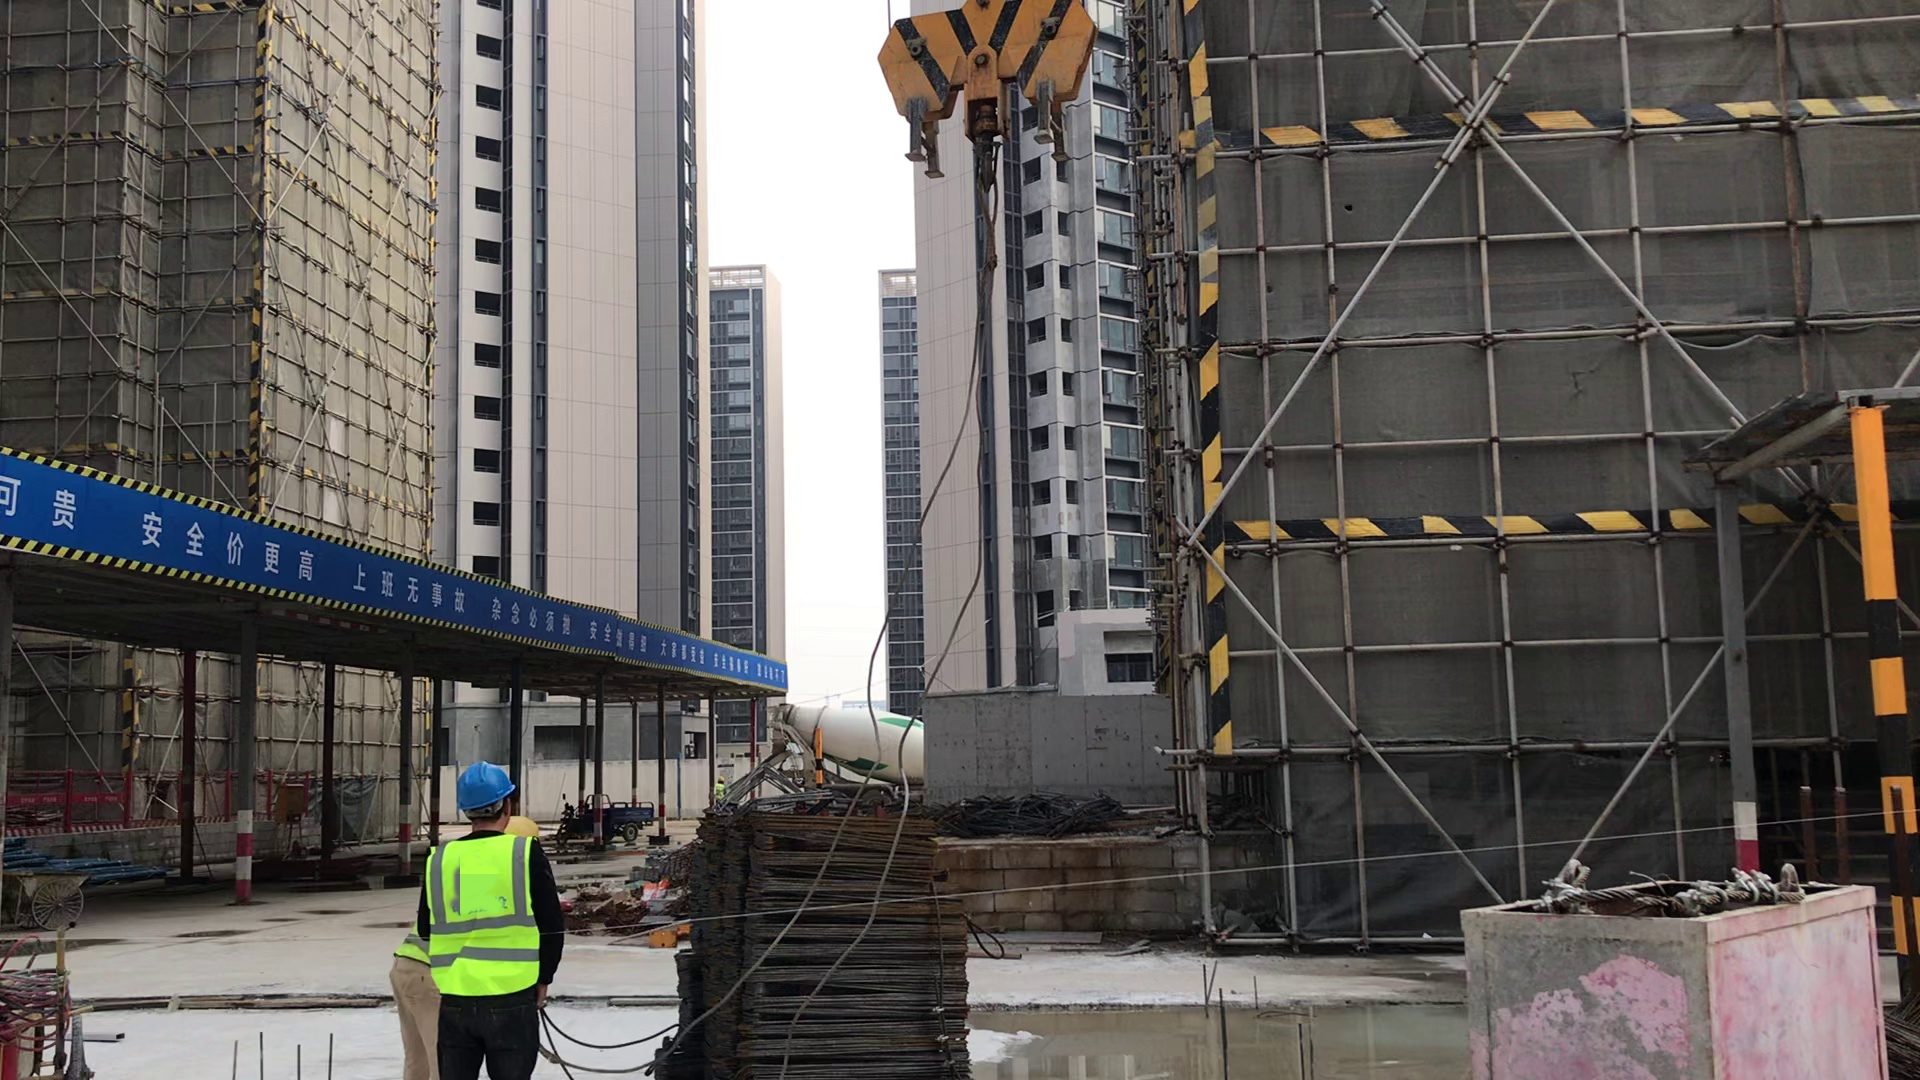brick: (943, 829, 1217, 942)
handcart: (12, 868, 91, 934)
helmet: (453, 762, 520, 814)
hook: (862, 6, 1120, 191)
person: (413, 758, 568, 1080), (388, 905, 437, 1080), (711, 773, 729, 805)
slogan: (3, 444, 790, 734)
vest: (418, 834, 552, 999)
